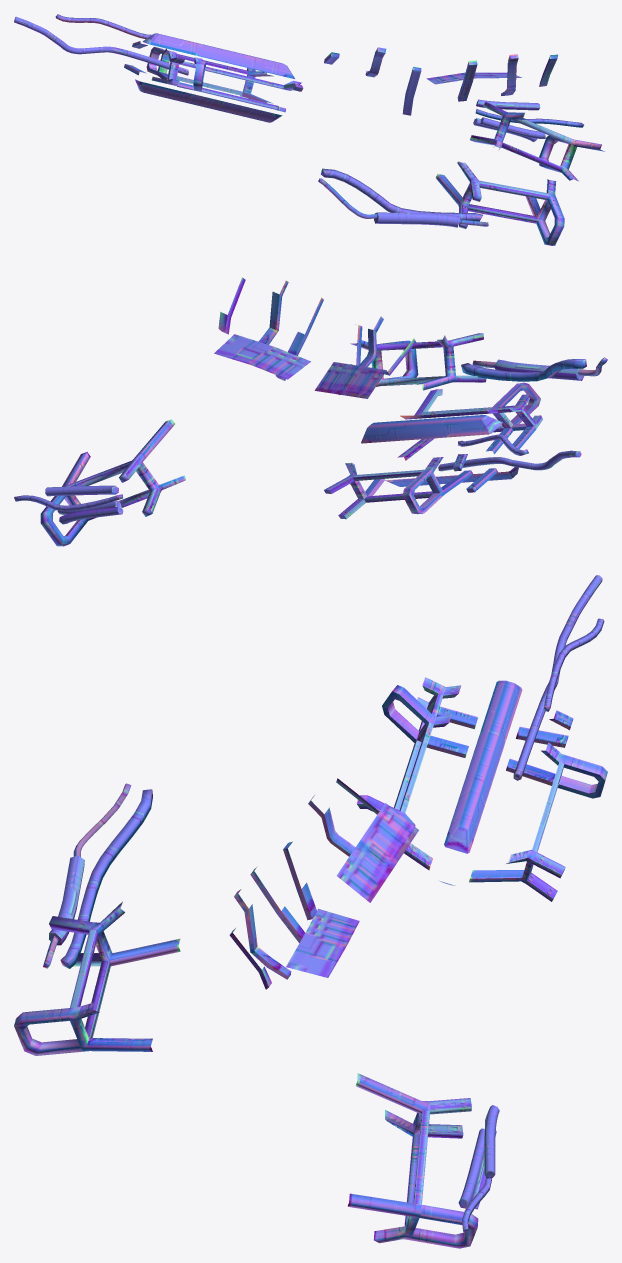
The model's file is ship_wreck_07.glb.
The picture shows the model from 3 angles, top to bottom: view 1: azimuth 30°, elevation 25°; view 2: azimuth 150°, elevation 25°; view 3: azimuth 270°, elevation 25°; orthographic projection. The views are drawn at different scales.
Visible parts, largest first — view 1: ship_wreck_07_LOD0; view 2: ship_wreck_07_LOD0; view 3: ship_wreck_07_LOD0.
Part boxes in pixels (x1,y1,x2,y2): ship_wreck_07_LOD0: [14, 14, 604, 245]; ship_wreck_07_LOD0: [14, 277, 607, 546]; ship_wreck_07_LOD0: [14, 575, 607, 1248].
Size of what is drawn, in the model's own units: 9.13 by 3.89 by 6.24.
1 material, 1 textured.
